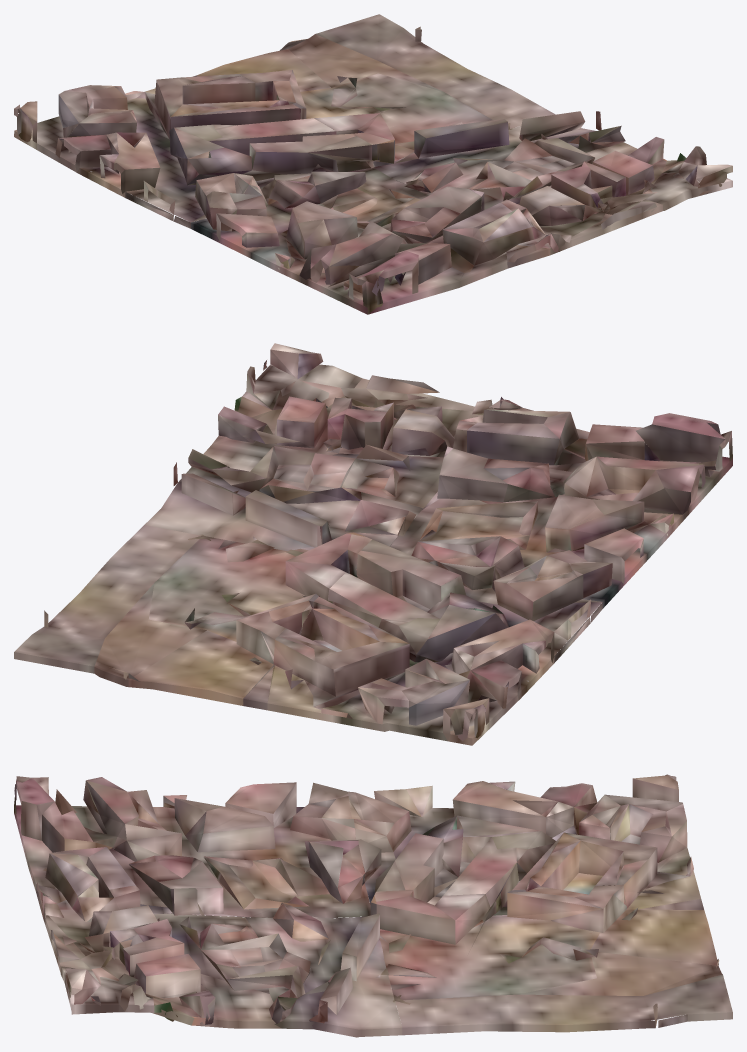
3 views of the same model, one above another, from view 1: azimuth 30°, elevation 25°; view 2: azimuth 150°, elevation 25°; view 3: azimuth 270°, elevation 25° (orthographic). The views are drawn at different scales.
Parts seen in each view (by area): view 1: Mesh_0; view 2: Mesh_0; view 3: Mesh_0.
Boxes of the visible parts, box(x1,y1,x2,y2) form: Mesh_0: box(14, 14, 732, 314); Mesh_0: box(14, 343, 732, 745); Mesh_0: box(14, 774, 732, 1037).
Size of the model in its own units: 533 by 74.73 by 659.
Materials: 2 (2 with a texture image).
